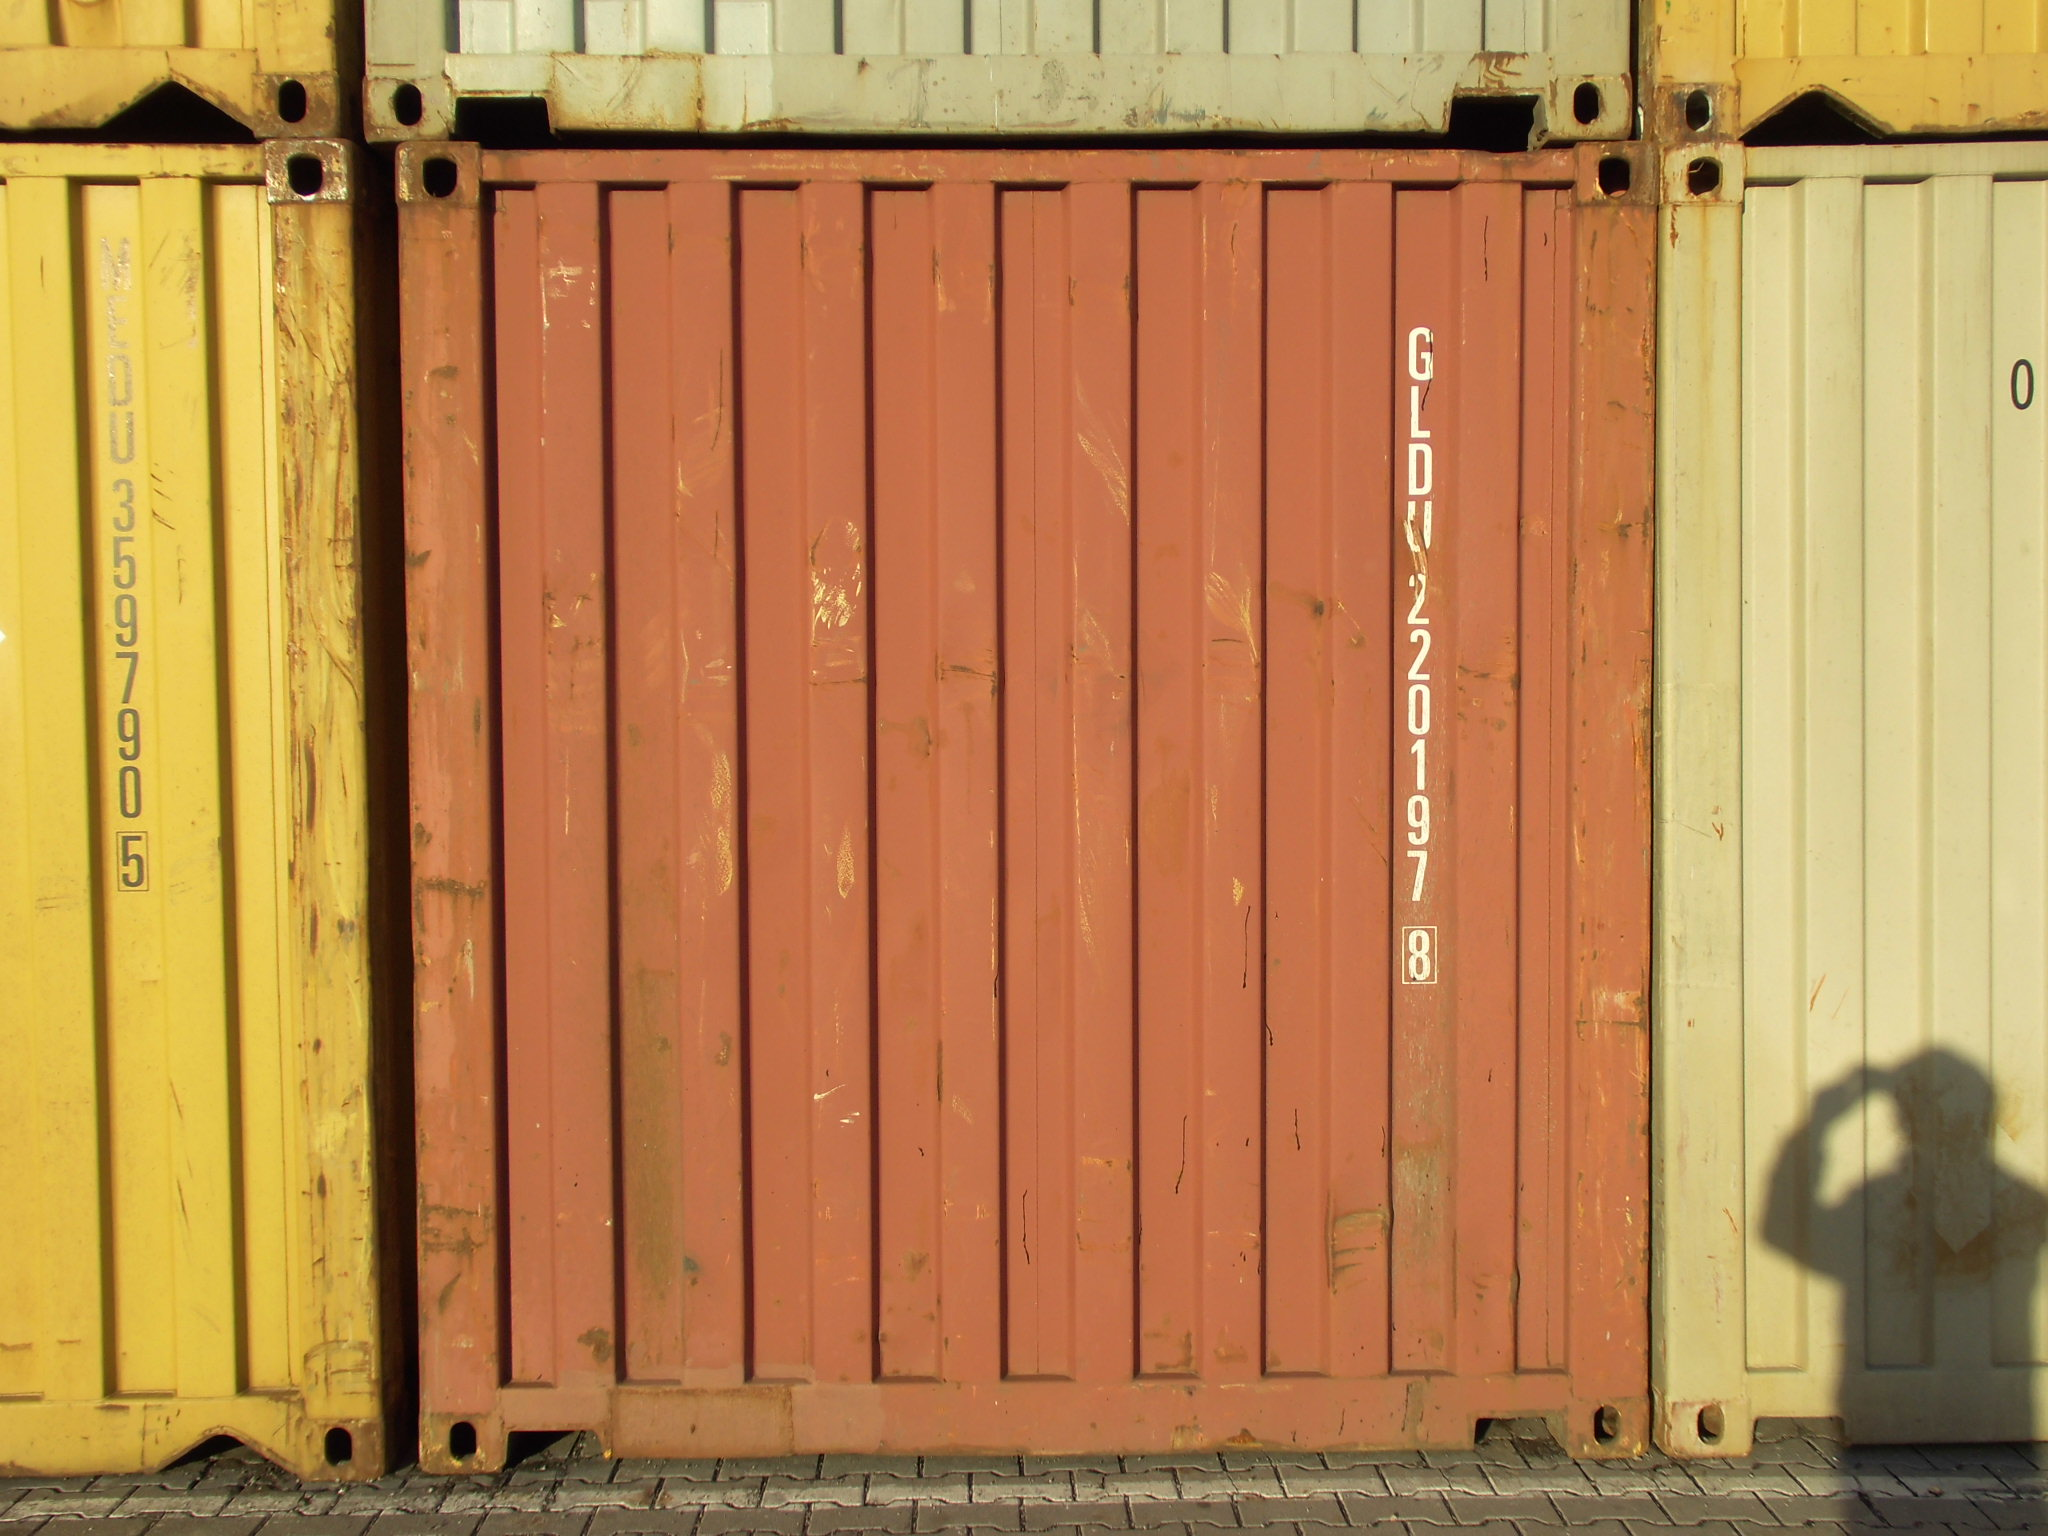container_no_door: (385, 139, 1661, 1475)
